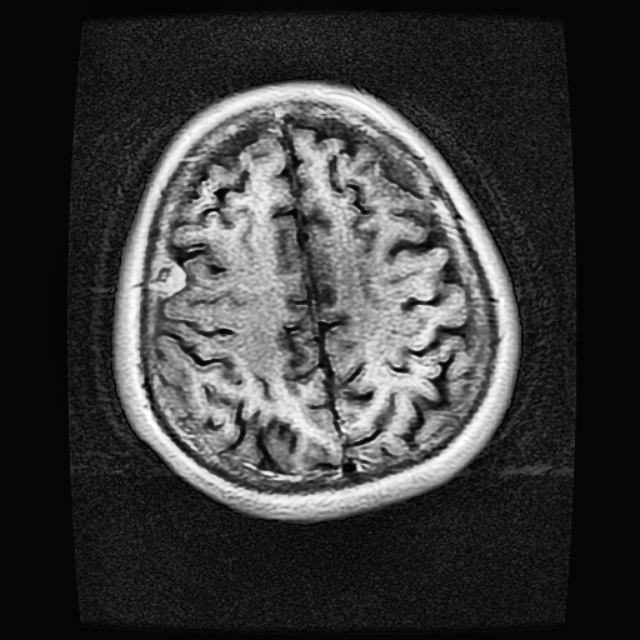Pituitary: (155, 258, 187, 292)
